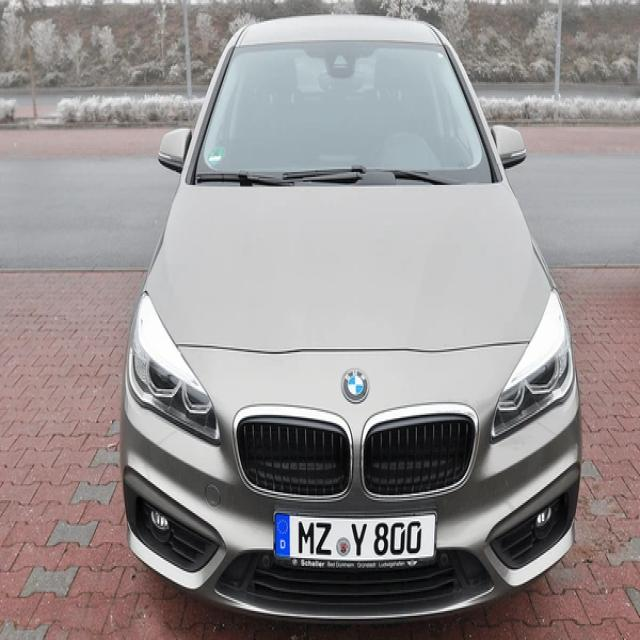bmw: (338, 363, 376, 408)
